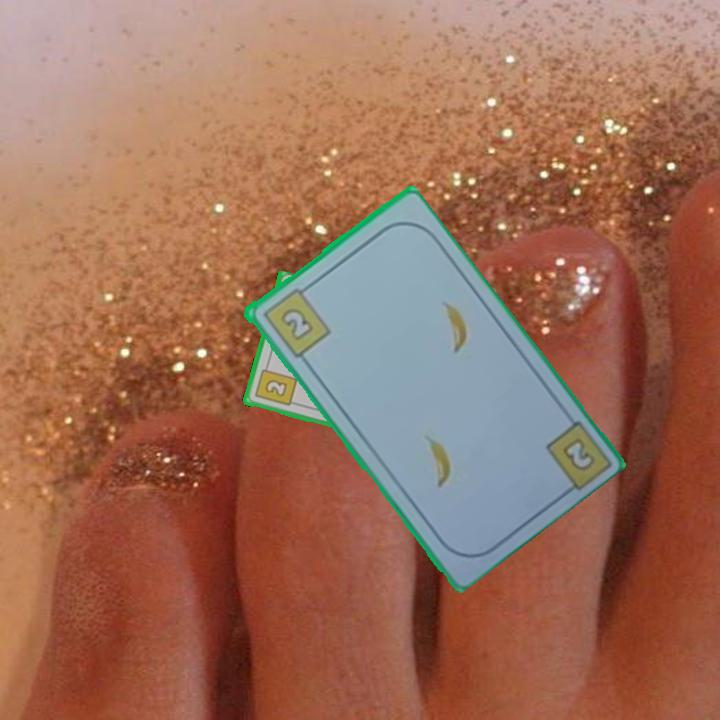2b: (258, 281, 333, 361), (251, 360, 299, 409), (557, 434, 598, 475)
